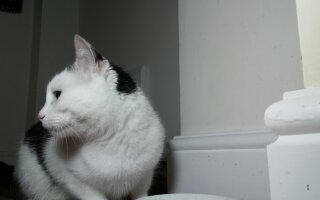bad: (15, 28, 167, 198)
